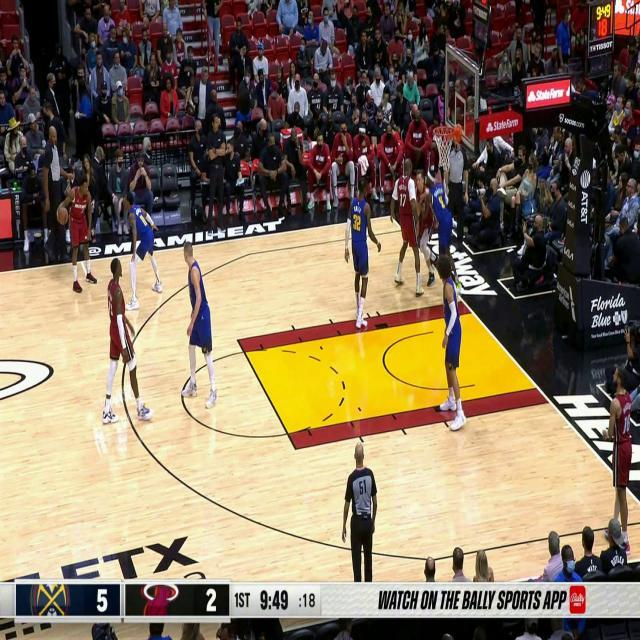rim: (58, 206, 68, 226)
